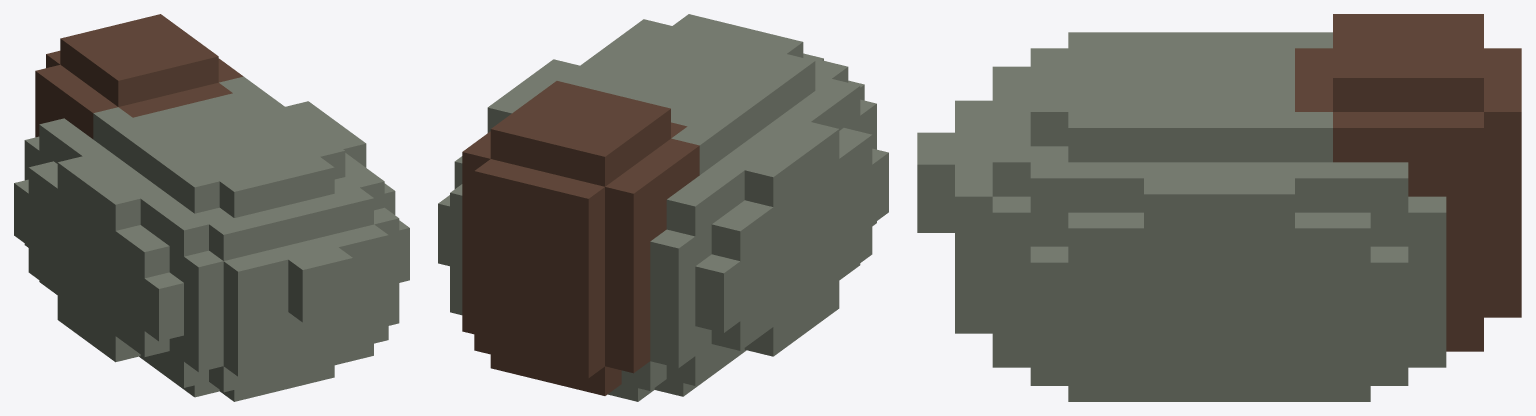
Rendered from male_body.glb.
3 views of the same model, side by side, from view 1: azimuth 30°, elevation 25°; view 2: azimuth 150°, elevation 25°; view 3: azimuth 270°, elevation 25° (orthographic). The views are drawn at different scales.
Parts seen in each view (by area): view 1: VoxelVisual; view 2: VoxelVisual; view 3: VoxelVisual.
Boxes of the visible parts, bbox=[...] form: VoxelVisual: bbox=[14, 14, 409, 401]; VoxelVisual: bbox=[438, 14, 888, 401]; VoxelVisual: bbox=[917, 14, 1521, 401].
Size of what is drawn, in the model's own units: 0.625 by 0.5625 by 1.
